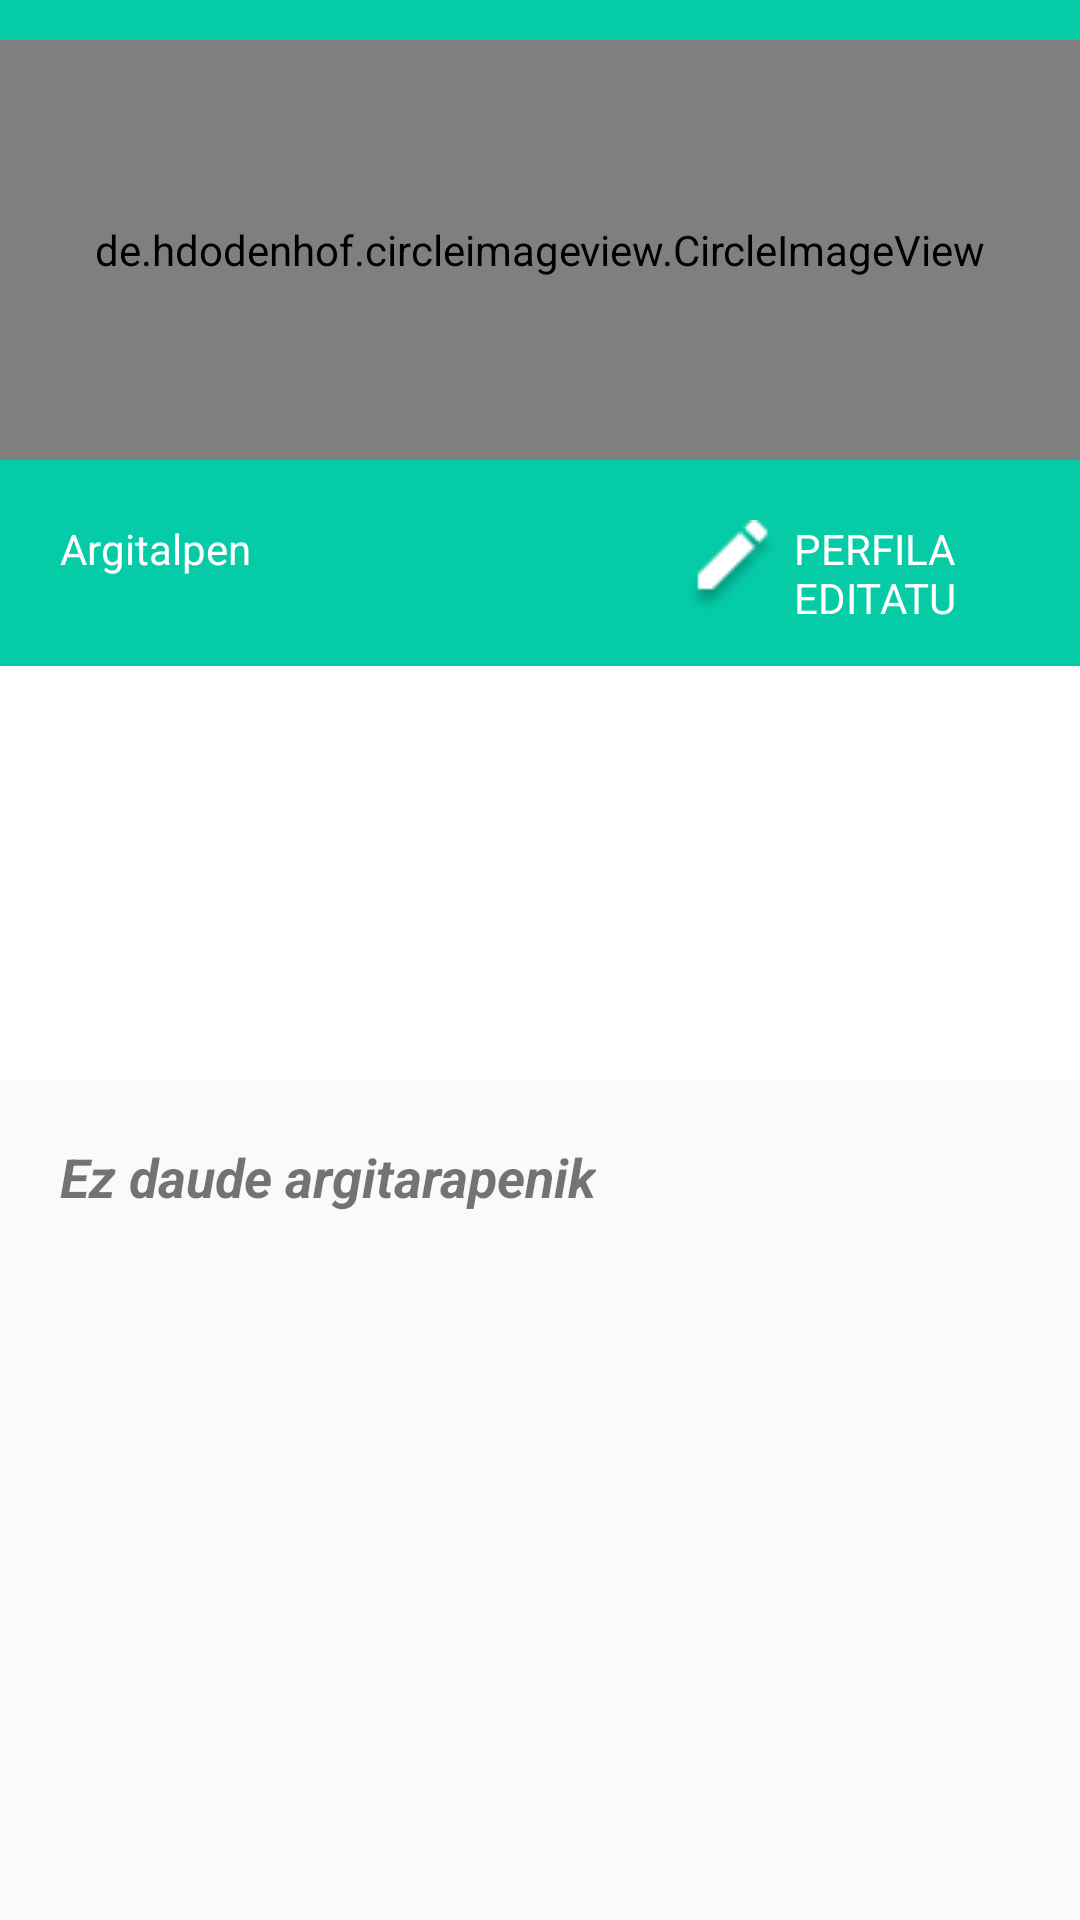

Named icons in this screenshot (1080*1920) and their bounding boxes, (x1, y1, x2, y2):
editatu ikonoa: (697, 520, 768, 600)
